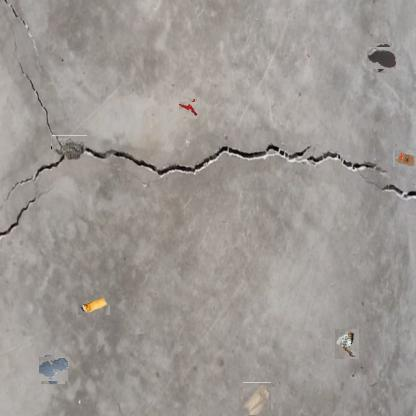dirty: (241, 384, 273, 416), (51, 135, 87, 162), (335, 329, 359, 359), (78, 295, 110, 315), (394, 149, 416, 167), (180, 100, 198, 118)
liquid: (40, 355, 66, 383), (368, 45, 394, 71)
